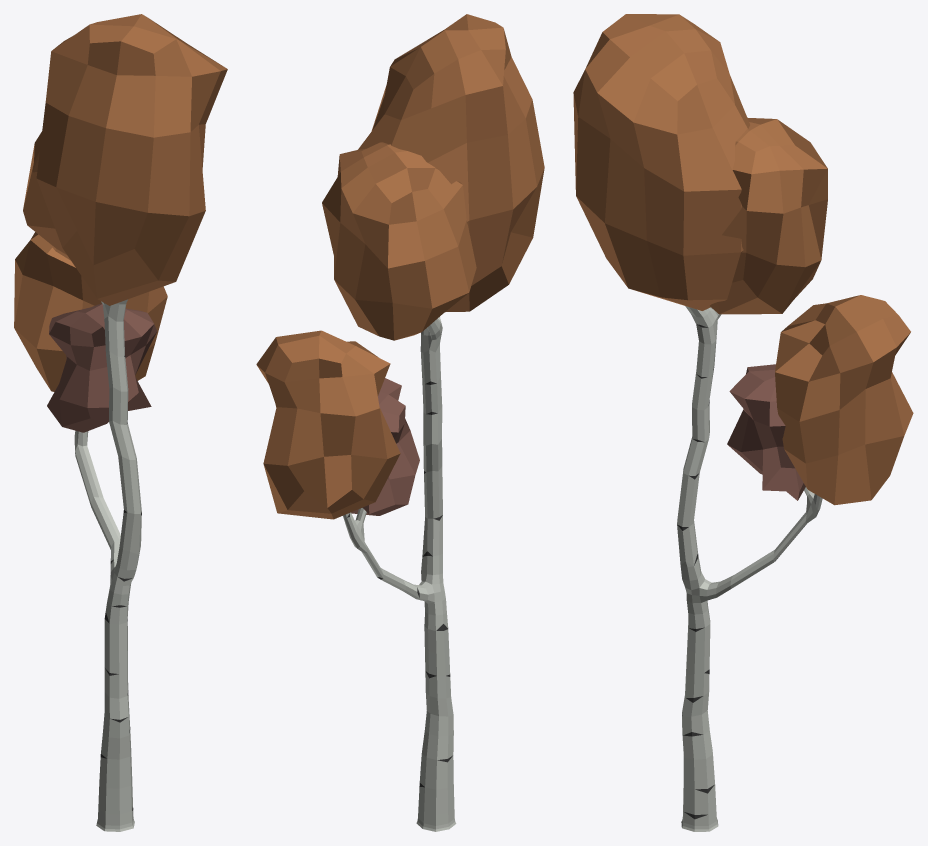
Rendered from BirchTree_Autumn_5.gltf.
3 renders of one model, left to right at view 1: azimuth 30°, elevation 25°; view 2: azimuth 150°, elevation 25°; view 3: azimuth 270°, elevation 25°, orthographic. The views are drawn at different scales.
Parts seen in each view (by area): view 1: BirchTree_Autumn_5; view 2: BirchTree_Autumn_5; view 3: BirchTree_Autumn_5.
Boxes of the visible parts, x1,y1,x2,y2 form: BirchTree_Autumn_5: [14, 14, 227, 831]; BirchTree_Autumn_5: [256, 14, 544, 831]; BirchTree_Autumn_5: [573, 14, 913, 831].
Bounding box in the file's own units: 1.19 × 5.01 × 1.93.
